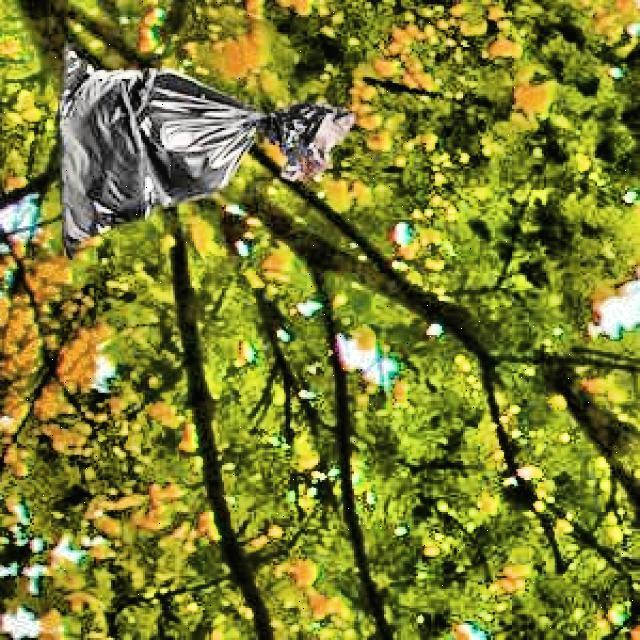Trashbag: (49, 20, 342, 258)
